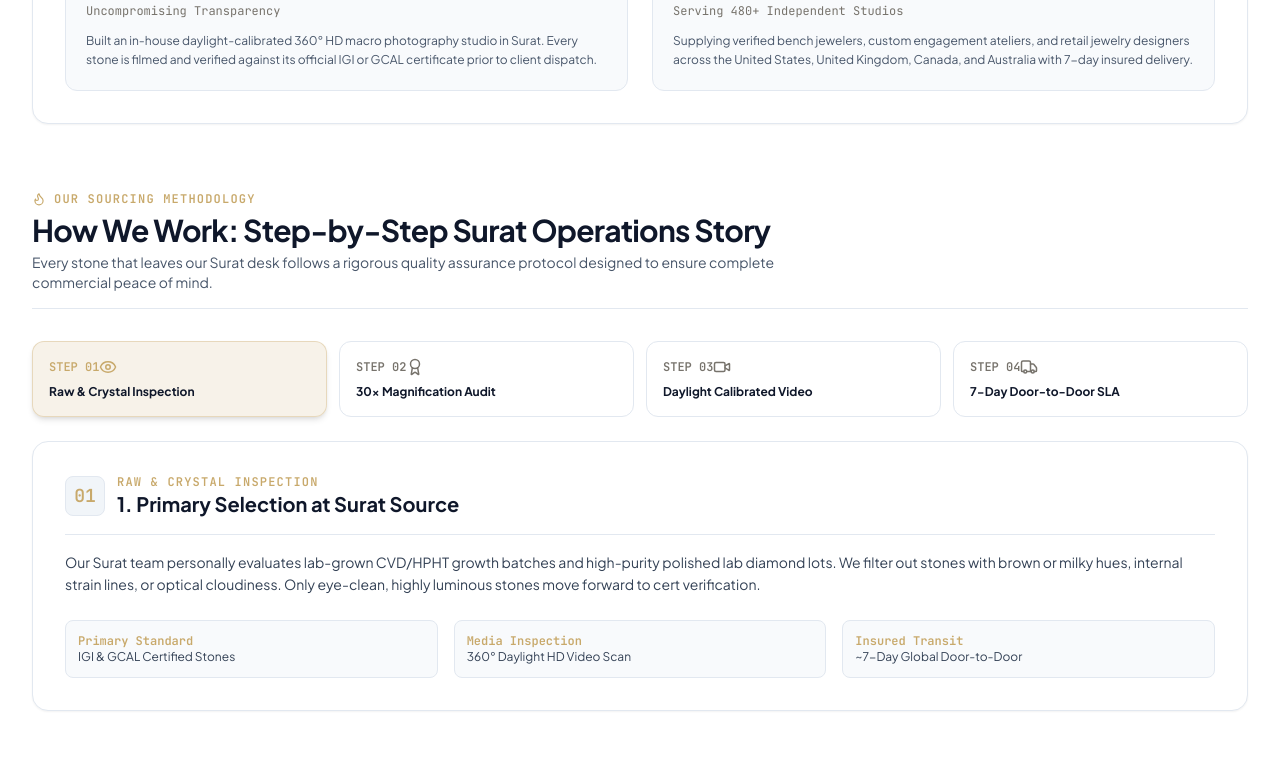
AboutPage and Review Rating Suite › renders operational process steps and switches active step tabs
(page scrolled)
Expected: the heading "1. Primary Selection at Surat Source" is shown, x1=117 y1=490 x2=459 y2=518
// Click step 3 tab
Click the text "Daylight Calibrated Video" at (738, 392), box x1=663 y1=384 x2=813 y2=400
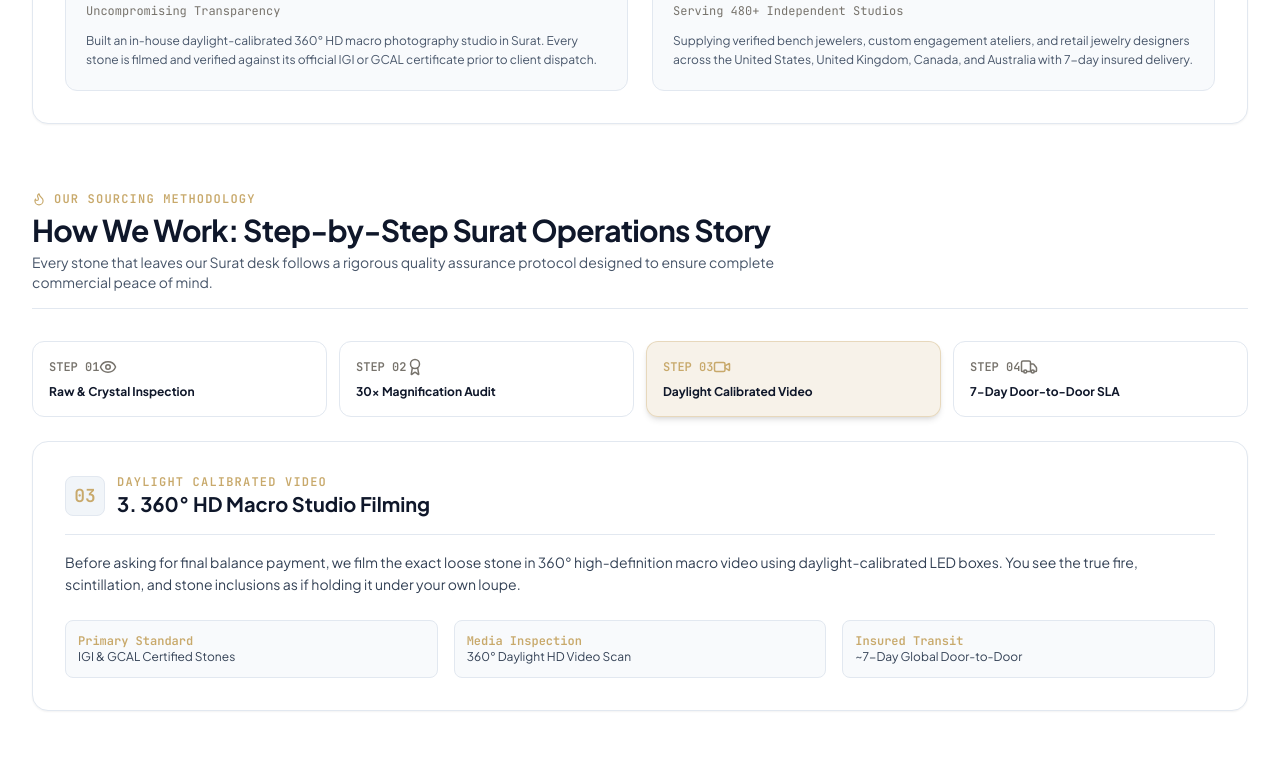
Expected: the heading "3. 360° HD Macro Studio Filming" is shown, x1=117 y1=490 x2=430 y2=518
